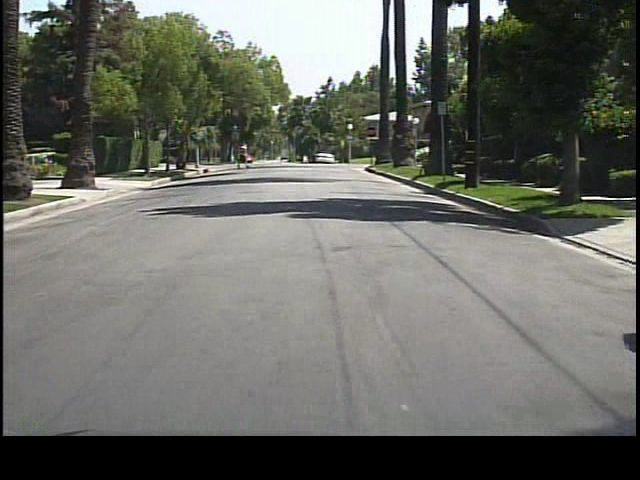person: (236, 140, 252, 171)
